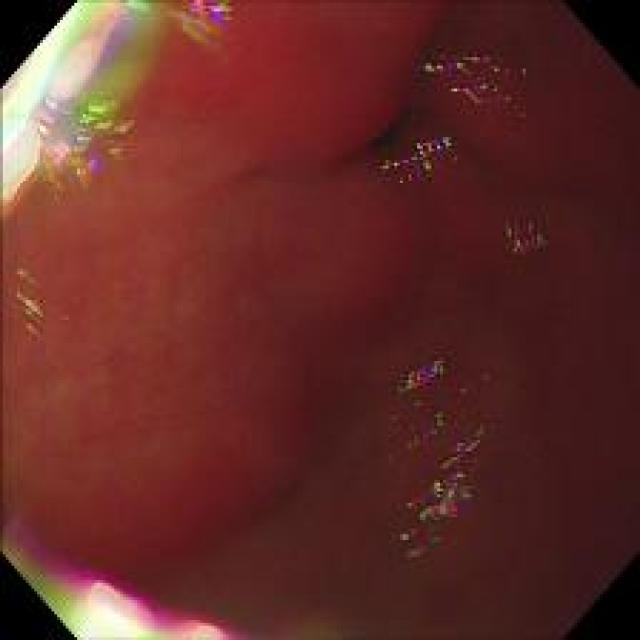blur: (2, 1, 635, 635)
color misalignment: (4, 8, 235, 228), (6, 512, 260, 635), (396, 350, 500, 580), (2, 1, 234, 46), (431, 45, 539, 111), (6, 242, 60, 356), (389, 128, 458, 190), (494, 209, 549, 260), (380, 158, 402, 179)
